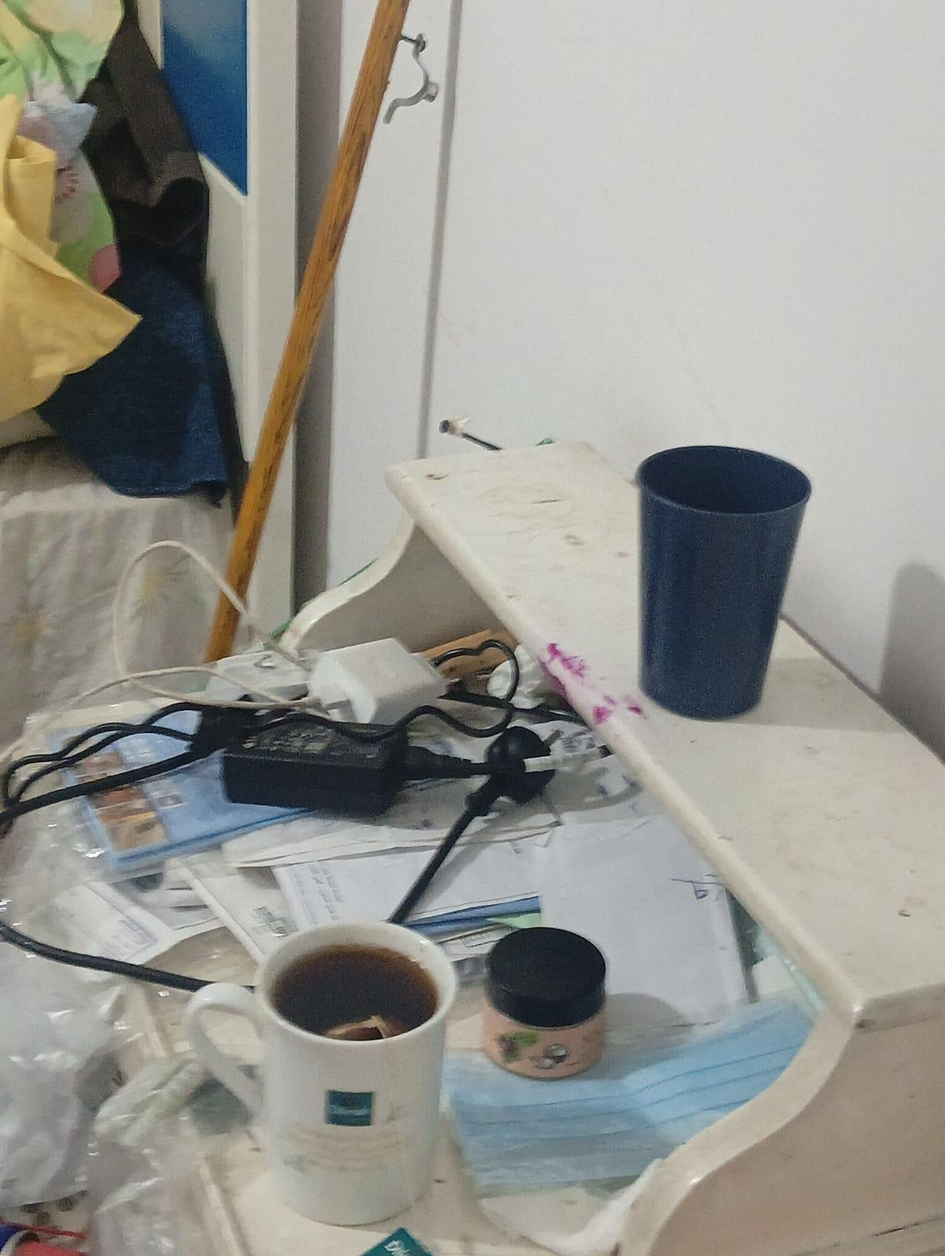cup: (184, 922, 457, 1225), (637, 445, 811, 720), (257, 922, 456, 1053), (651, 422, 812, 535), (271, 933, 439, 1041)
